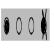correct: (3, 16, 10, 36)
not correct: (40, 8, 48, 41)
